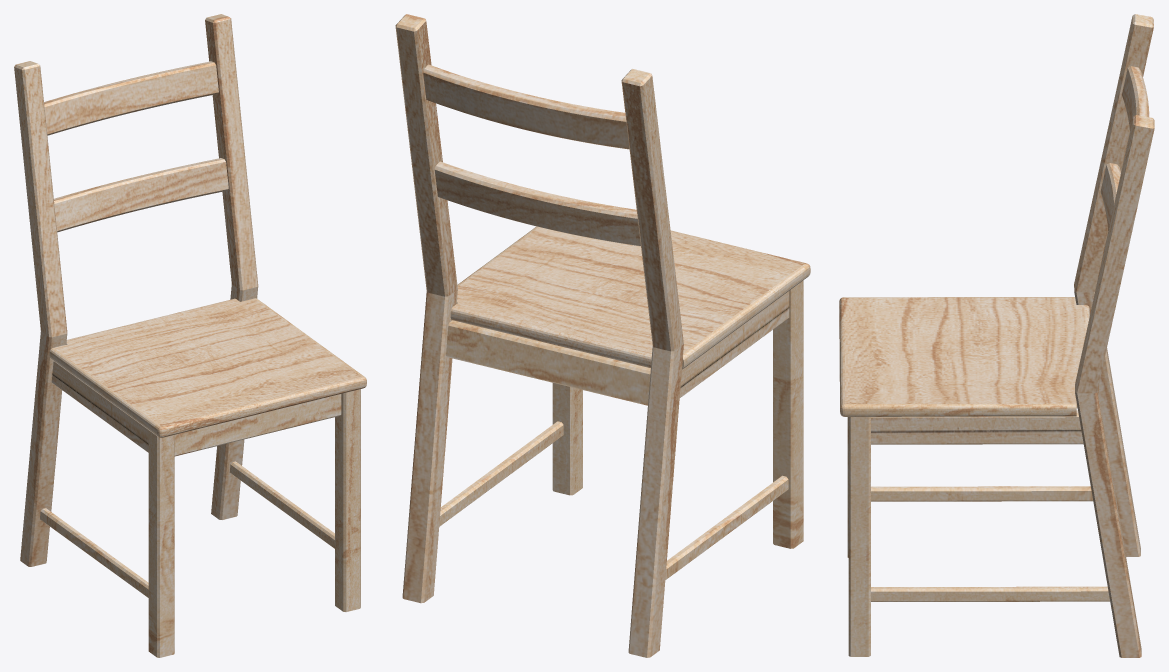
The picture shows the model from 3 angles, left to right: view 1: azimuth 30°, elevation 25°; view 2: azimuth 150°, elevation 25°; view 3: azimuth 270°, elevation 25°; orthographic projection. The views are drawn at different scales.
Parts seen in each view (by area): view 1: Legs; view 2: Legs; view 3: Legs.
Part boxes in pixels (left/top/right/bottom): Legs: left=14, top=14, right=366, bottom=657; Legs: left=395, top=14, right=810, bottom=657; Legs: left=839, top=14, right=1154, bottom=657.
Bounding box in the file's own units: 1.21 × 2.72 × 1.45.
1 material, 1 textured.
